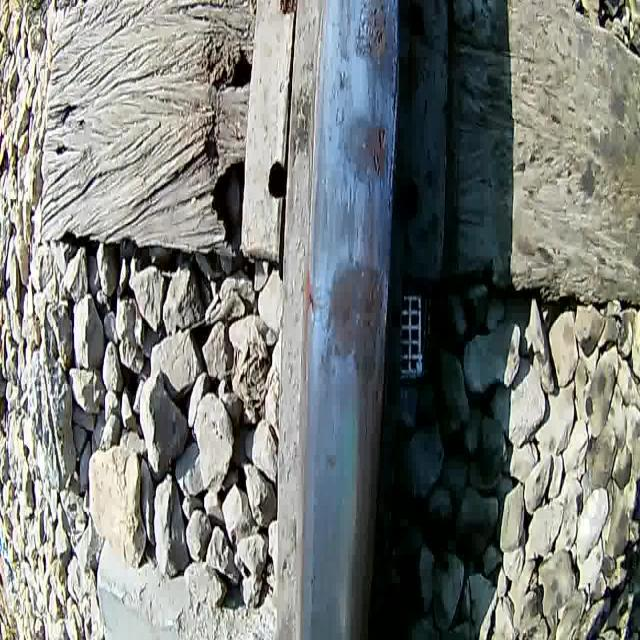Spallings: (350, 0, 394, 69), (369, 116, 388, 180)
Squats: (316, 249, 390, 403), (334, 103, 392, 188)
